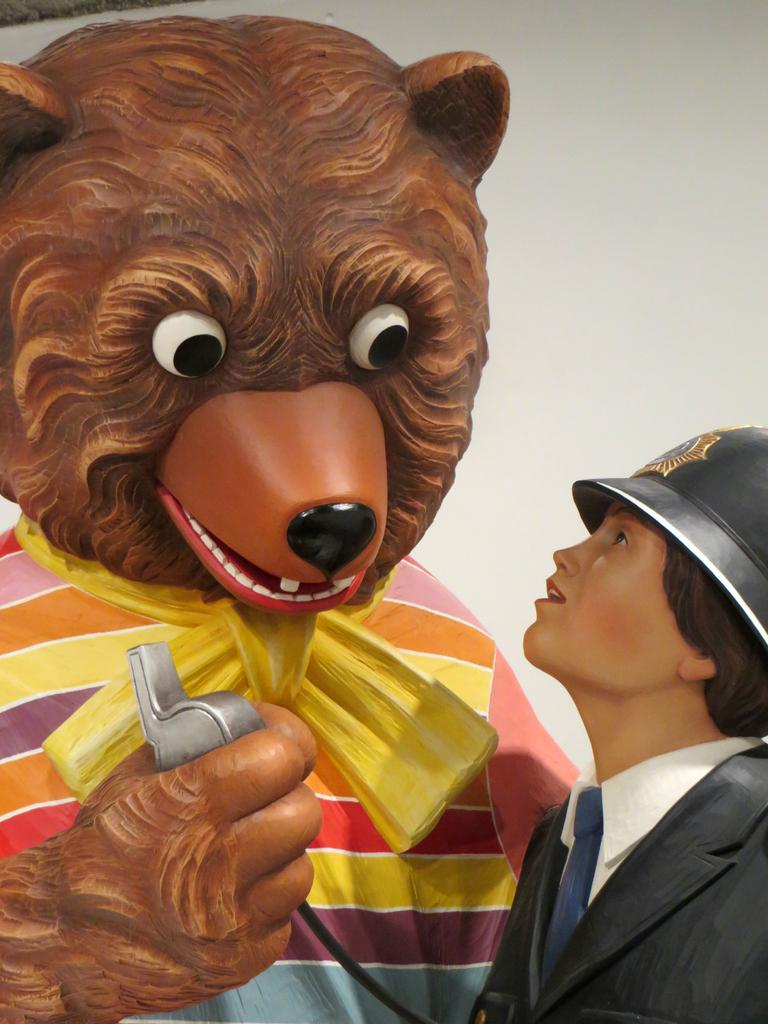Hat: (567, 420, 767, 651)
